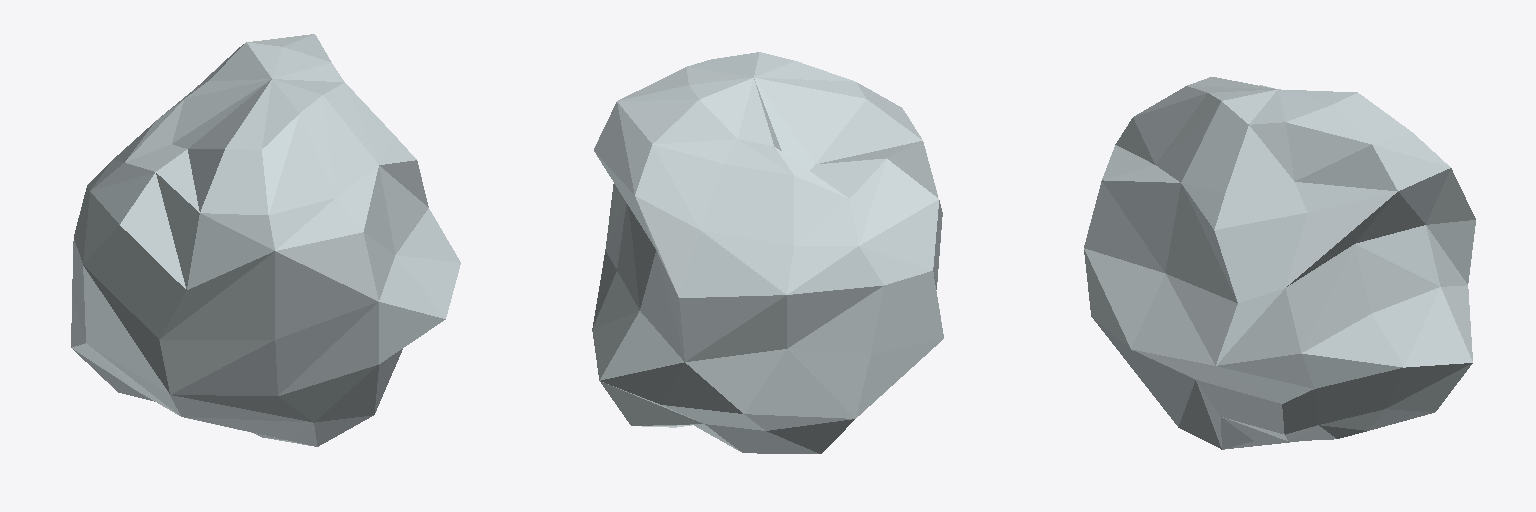
The model's file is Cloud.obj.
3 views of the same model, side by side, from view 1: azimuth 30°, elevation 25°; view 2: azimuth 150°, elevation 25°; view 3: azimuth 270°, elevation 25° (orthographic).
Parts seen in each view (by area): view 1: group[number redacted]; view 2: group[number redacted]; view 3: group[number redacted].
Boxes of the visible parts, box(x1,y1,x2,y2) form: group[number redacted]: box(71, 34, 460, 446); group[number redacted]: box(592, 52, 943, 453); group[number redacted]: box(1084, 77, 1475, 449).
Size of the model in its own units: 0.1223 by 0.1201 by 0.1201.